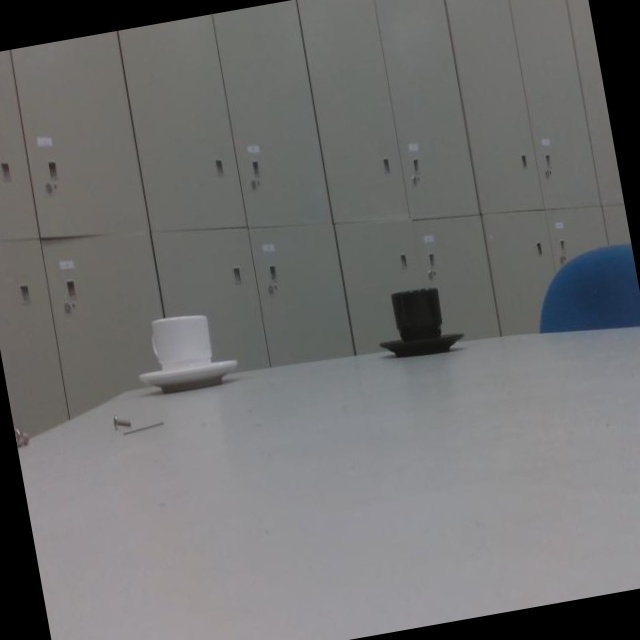black: (374, 279, 463, 362)
white: (132, 304, 237, 396)
